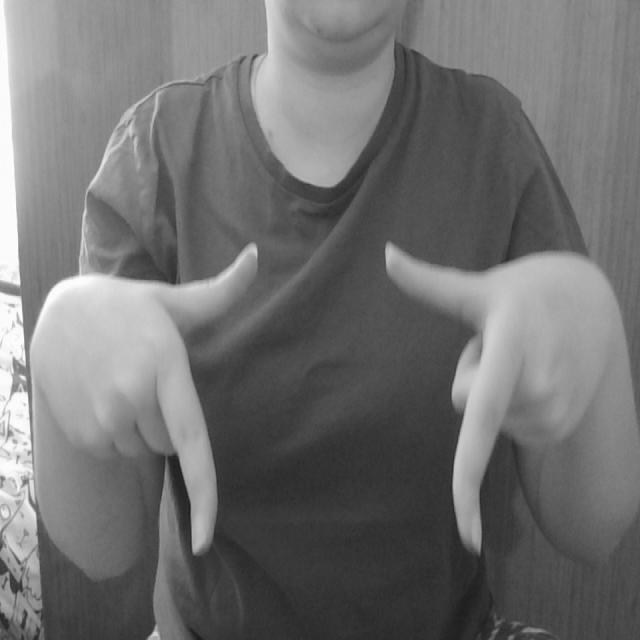Nerede: (146, 235, 523, 561)
